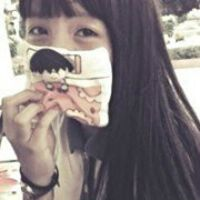face_mask: (17, 1, 112, 124)
